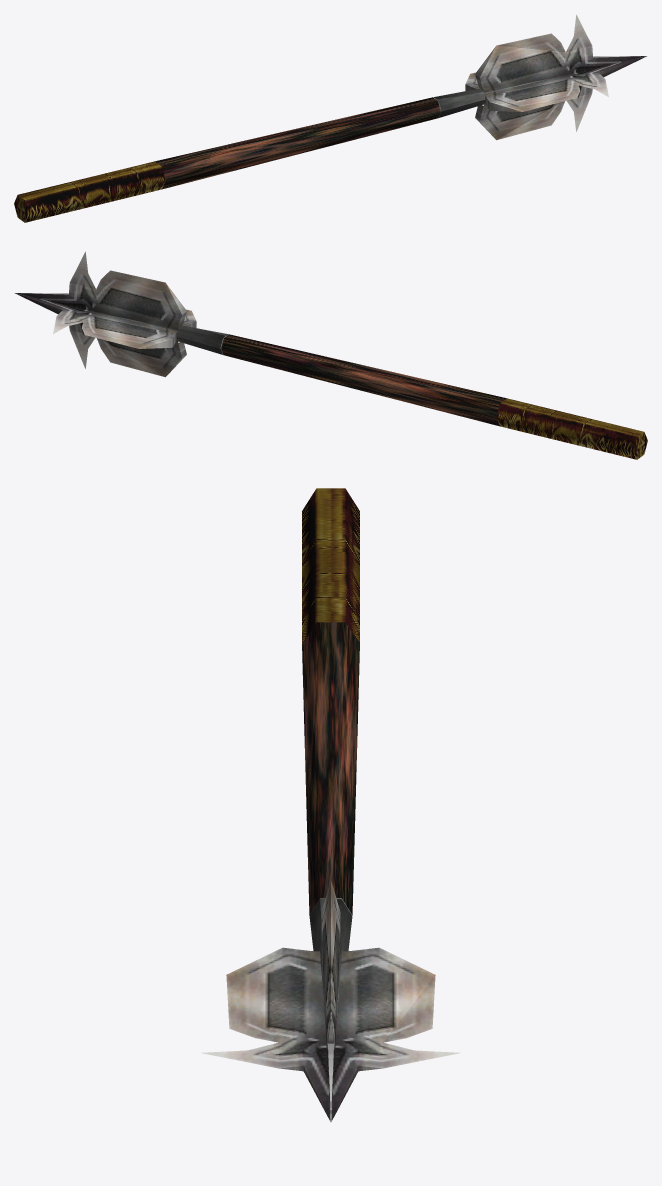
The picture shows the model from 3 angles, top to bottom: view 1: azimuth 30°, elevation 25°; view 2: azimuth 150°, elevation 25°; view 3: azimuth 270°, elevation 25°; orthographic projection. The views are drawn at different scales.
Visible parts, largest first — view 1: it10605; view 2: it10605; view 3: it10605.
Part boxes in pixels (x1,y1,x2,y2): it10605: [14, 14, 647, 222]; it10605: [14, 251, 647, 459]; it10605: [201, 488, 460, 1122].
Bounding box in the file's own units: 3 × 0.5425 × 0.5425.
4 materials, 4 textured.
